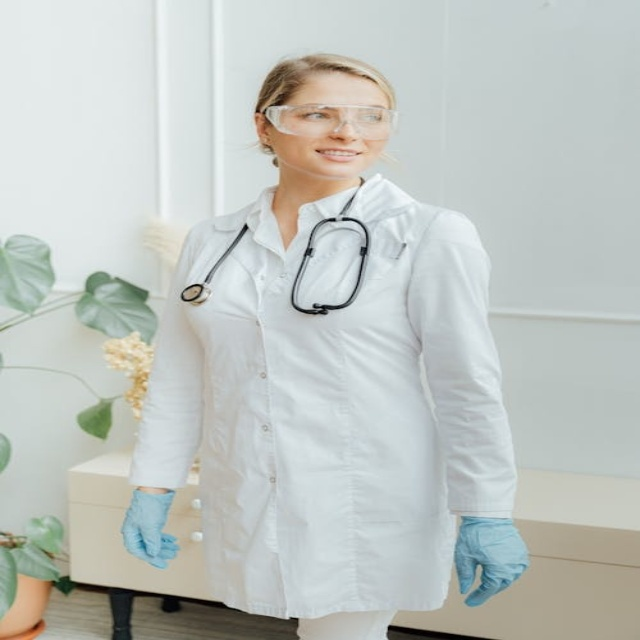Gafas: (261, 98, 398, 141)
Guantes: (455, 516, 529, 607), (121, 489, 179, 569)
Sin_mascara: (307, 143, 367, 172)
